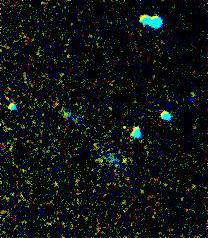star: (108, 111, 138, 141)
